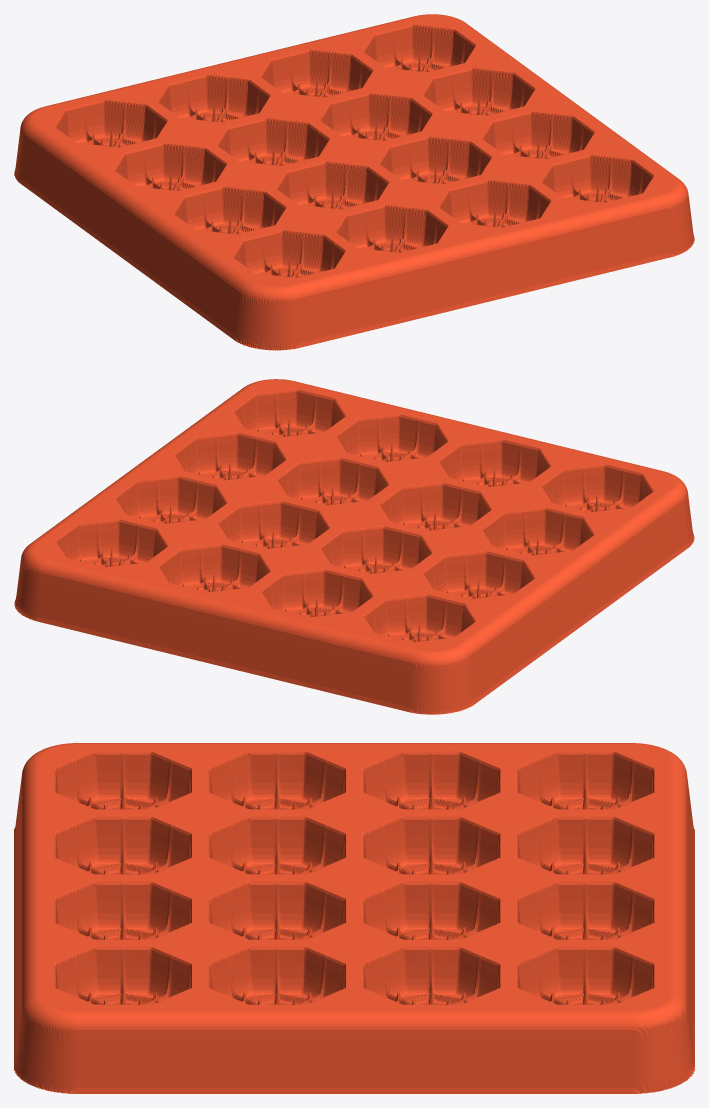
The model's file is mold.glb.
3 views of the same model, one above another, from view 1: azimuth 30°, elevation 25°; view 2: azimuth 150°, elevation 25°; view 3: azimuth 270°, elevation 25° (orthographic). The views are drawn at different scales.
Visible parts, largest first — view 1: geometry_0; view 2: geometry_0; view 3: geometry_0.
Boxes of the visible parts, x1=… form: geometry_0: x1=14, y1=14, x2=694, y2=350; geometry_0: x1=14, y1=379, x2=694, y2=714; geometry_0: x1=14, y1=743, x2=694, y2=1093.
Bounding box in the file's own units: 0.0972 × 0.0114 × 0.0972.
